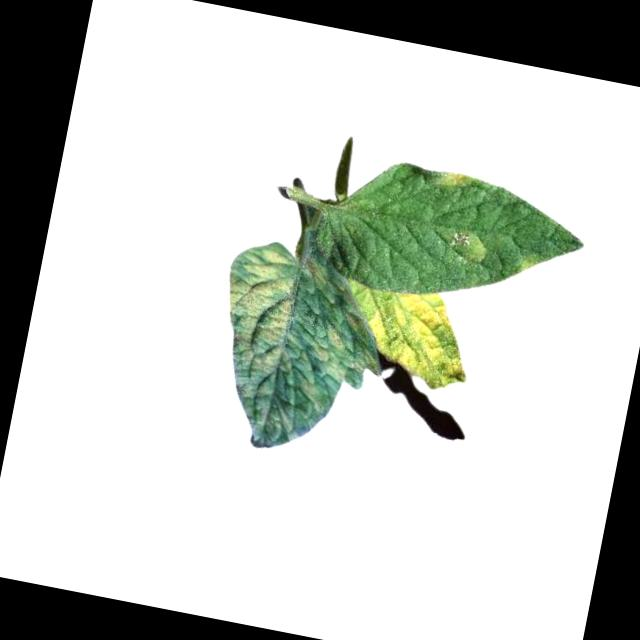Leaf_Mold: (355, 281, 482, 396), (206, 239, 302, 379), (273, 307, 388, 422), (438, 224, 490, 264), (297, 254, 330, 291), (512, 247, 544, 278), (431, 168, 469, 193)
